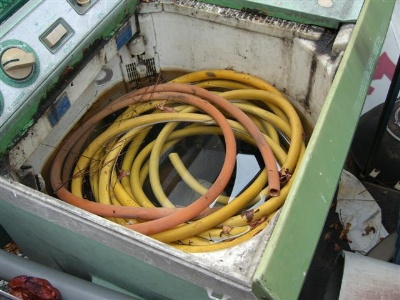washing_machine: (1, 1, 396, 298)
